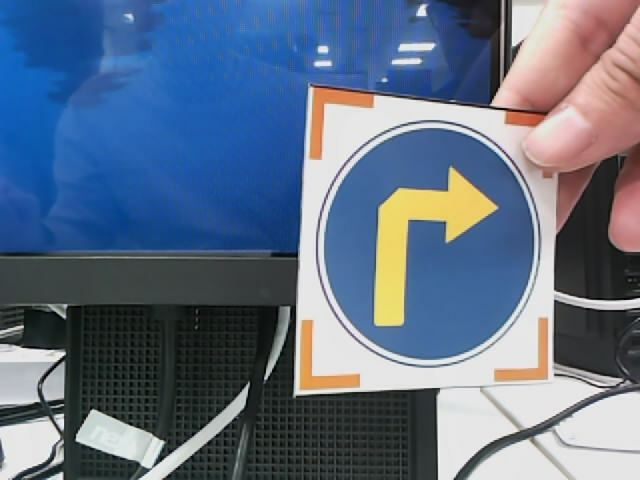right: (316, 119, 542, 368)
